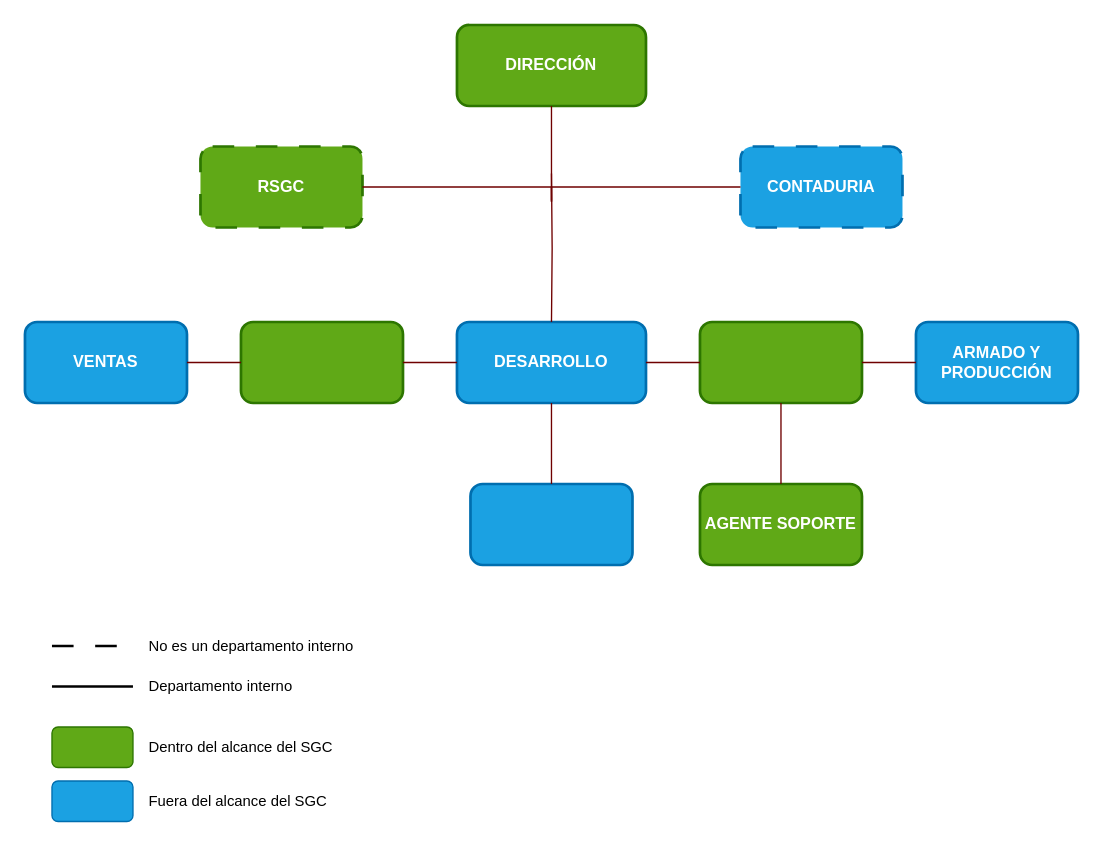
Some shapes in this 1102 by 845 pixel diagram are drawn without their labels. The shapes that lost their labels are listed below. From the top down, each one's centre as x and y in pixels, then its label:
At pixel 321 362: "COMPRAS".
At pixel 780 362: "RESPONSABLE DE SOPORTE".
At pixel 550 524: "TESTING".
